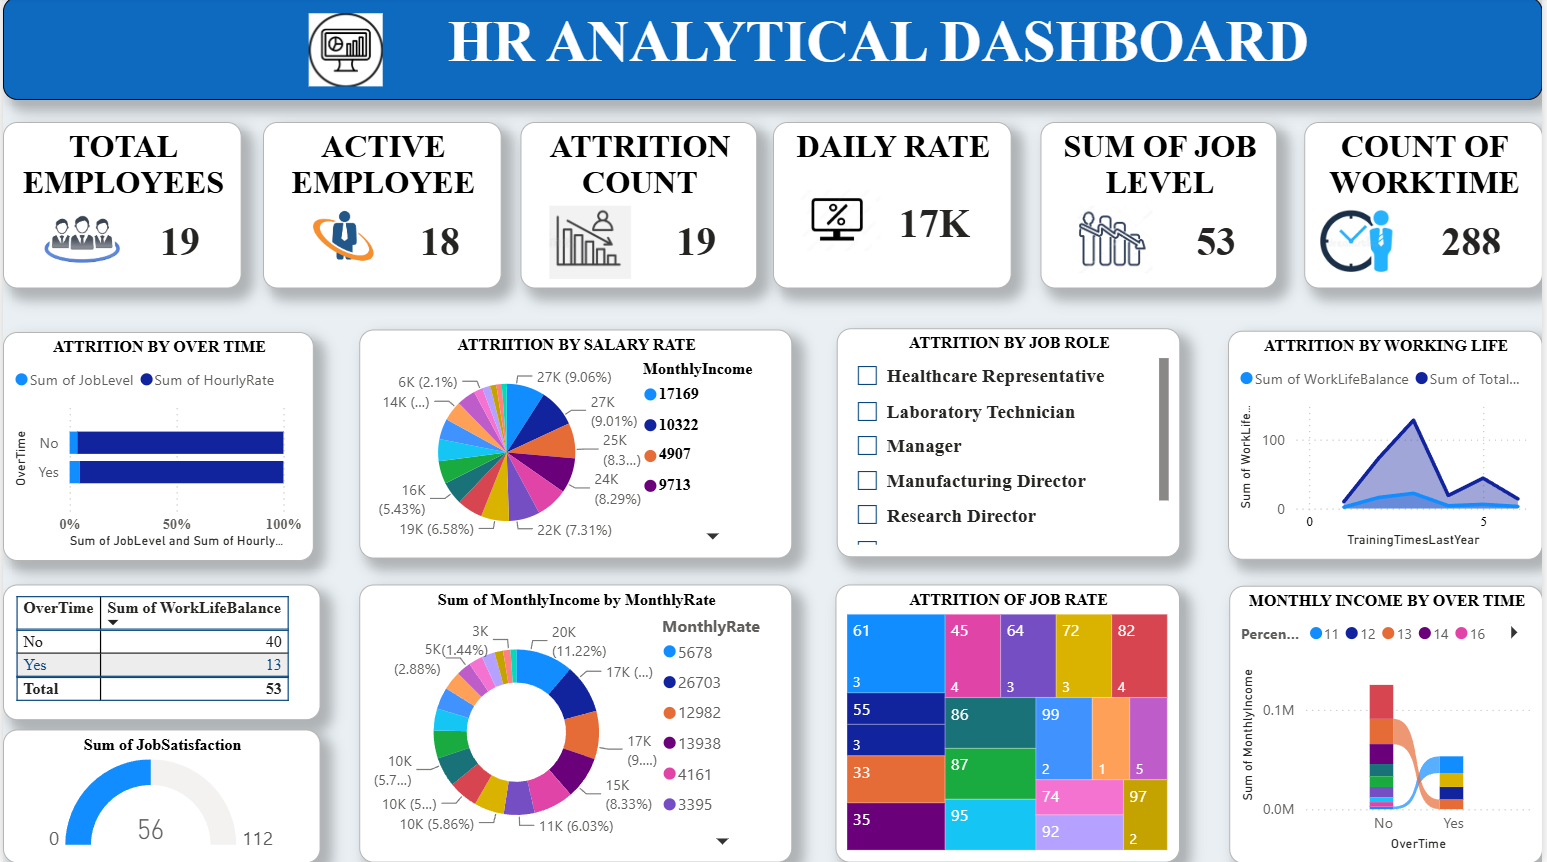

What the dashboard file says about the page in this screenshot:
{"tool":"powerbi","page":{"name":"Page 1","canvas":[1280,720],"ordinal":0},"visuals":[{"type":"textbox","box":[0,0,1280.3,85.3],"z":0},{"type":"image","box":[92,13.5,384.4,60.9],"z":1000},{"type":"cardVisual","title":"TOTAL EMPLOYEES","fields":{"Data":["CountNonNull(HR_Analytics.EmpID)"]},"box":[0,104.3,198.6,138.6],"z":2000},{"type":"cardVisual","title":"ACTIVE EMPLOYEE","fields":{"Data":["Sum(HR_Analytics.EmployeeCount)"]},"box":[215.7,104.3,198.6,138.6],"z":3000},{"type":"cardVisual","title":"ATTRITION COUNT","fields":{"Data":["CountNonNull(HR_Analytics.Attrition count)"]},"box":[430,104.3,197.1,138.6],"z":4000},{"type":"cardVisual","title":"DAILY RATE","fields":{"Data":["Sum(HR_Analytics.DailyRate)"]},"box":[640,104.3,198.6,138.6],"z":5000},{"type":"cardVisual","title":"SUM OF JOB LEVEL","fields":{"Data":["Sum(HR_Analytics.JobLevel)"]},"box":[862.9,104.3,197.1,138.6],"z":6000},{"type":"cardVisual","title":"COUNT OF WORKTIME","fields":{"Data":["Sum(HR_Analytics.TotalWorkingYears)"]},"box":[1081.4,104.3,198.6,138.6],"z":7000},{"type":"treemap","title":"ATTRITION OF JOB RATE","fields":{"Group":["HR_Analytics.HourlyRate"],"Values":["Sum(HR_Analytics.JobInvolvement)"],"Details":["HR_Analytics.JobLevel"]},"box":[692.5,488.8,286.2,231.2],"z":8000},{"type":"pieChart","title":"ATTRIITION BY SALARY RATE","fields":{"Category":["HR_Analytics.MonthlyIncome"],"Y":["Sum(HR_Analytics.MonthlyRate)"],"Series":["HR_Analytics.PercentSalaryHike"]},"box":[296.2,276.2,360,190],"z":9000},{"type":"slicer","title":"ATTRITION BY JOB ROLE","fields":{"Values":["HR_Analytics.JobRole"]},"box":[692.9,275.7,285.7,190],"z":10000},{"type":"areaChart","title":"ATTRITION BY WORKING LIFE ","fields":{"Y":["Sum(HR_Analytics.WorkLifeBalance)","Sum(HR_Analytics.TotalWorkingYears)"],"Category":["HR_Analytics.TrainingTimesLastYear"]},"box":[1018.6,277.1,261.4,190],"z":11000},{"type":"hundredPercentStackedBarChart","title":"ATTRITION  BY OVER TIME","fields":{"Category":["HR_Analytics.OverTime","HR_Analytics.JobInvolvement"],"Y":["Sum(HR_Analytics.JobLevel)","Sum(HR_Analytics.HourlyRate)"]},"box":[0,278.6,258.6,190],"z":12000},{"type":"tableEx","fields":{"Values":["HR_Analytics.OverTime","Sum(HR_Analytics.WorkLifeBalance)"]},"box":[0,488.8,263.8,112.5],"z":13000},{"type":"gauge","fields":{"Y":["Sum(HR_Analytics.JobSatisfaction)"]},"box":[0,608.8,263.8,111.2],"z":14000},{"type":"donutChart","fields":{"Category":["HR_Analytics.MonthlyRate"],"Y":["Sum(HR_Analytics.MonthlyIncome)"]},"box":[296.2,488.8,360,231.2],"z":15000},{"type":"ribbonChart","title":"MONTHLY INCOME BY OVER TIME","fields":{"Category":["HR_Analytics.OverTime"],"Y":["Sum(HR_Analytics.MonthlyIncome)"],"Series":["HR_Analytics.PercentSalaryHike"]},"box":[1019,489,261,231],"z":16000},{"type":"image","box":[240.7,173.3,87.2,55.8],"z":16001},{"type":"image","box":[22.1,168.6,88.4,65.1],"z":16002},{"type":"image","box":[884.9,173.3,76.7,55.8],"z":16003},{"type":"image","box":[1060.5,173.3,132.6,59.3],"z":16004},{"type":"image","box":[430.2,173.3,116.3,60.5],"z":16005},{"type":"image","box":[652.3,160.5,87.2,51.2],"z":16006}]}

Visuals, with their boxes in screenshot pixels (x1, y1, x2, y2), scaled from the page's 1280x720 canvas onto the 1547x862 screenshot:
textbox: [0,0,1546,102]
image: [111,16,576,89]
"TOTAL EMPLOYEES" cardVisual: [0,125,240,291]
"ACTIVE EMPLOYEE" cardVisual: [261,125,501,291]
"ATTRITION COUNT" cardVisual: [520,125,758,291]
"DAILY RATE" cardVisual: [774,125,1014,291]
"SUM OF JOB LEVEL" cardVisual: [1043,125,1281,291]
"COUNT OF WORKTIME" cardVisual: [1307,125,1546,291]
"ATTRITION OF JOB RATE" treemap: [837,585,1183,861]
"ATTRIITION BY SALARY RATE" pieChart: [358,331,793,558]
"ATTRITION BY JOB ROLE" slicer: [837,330,1183,558]
"ATTRITION BY WORKING LIFE " areaChart: [1231,332,1546,559]
"ATTRITION  BY OVER TIME" hundredPercentStackedBarChart: [0,334,313,561]
tableEx - HR_Analytics.OverTime x Sum(HR_Analytics.WorkLifeBalance): [0,585,319,720]
gauge - Sum(HR_Analytics.JobSatisfaction): [0,729,319,861]
donutChart - HR_Analytics.MonthlyRate x Sum(HR_Analytics.MonthlyIncome): [358,585,793,861]
"MONTHLY INCOME BY OVER TIME" ribbonChart: [1232,585,1546,861]
image: [291,207,396,274]
image: [27,202,134,280]
image: [1069,207,1162,274]
image: [1282,207,1442,278]
image: [520,207,660,280]
image: [788,192,894,253]
